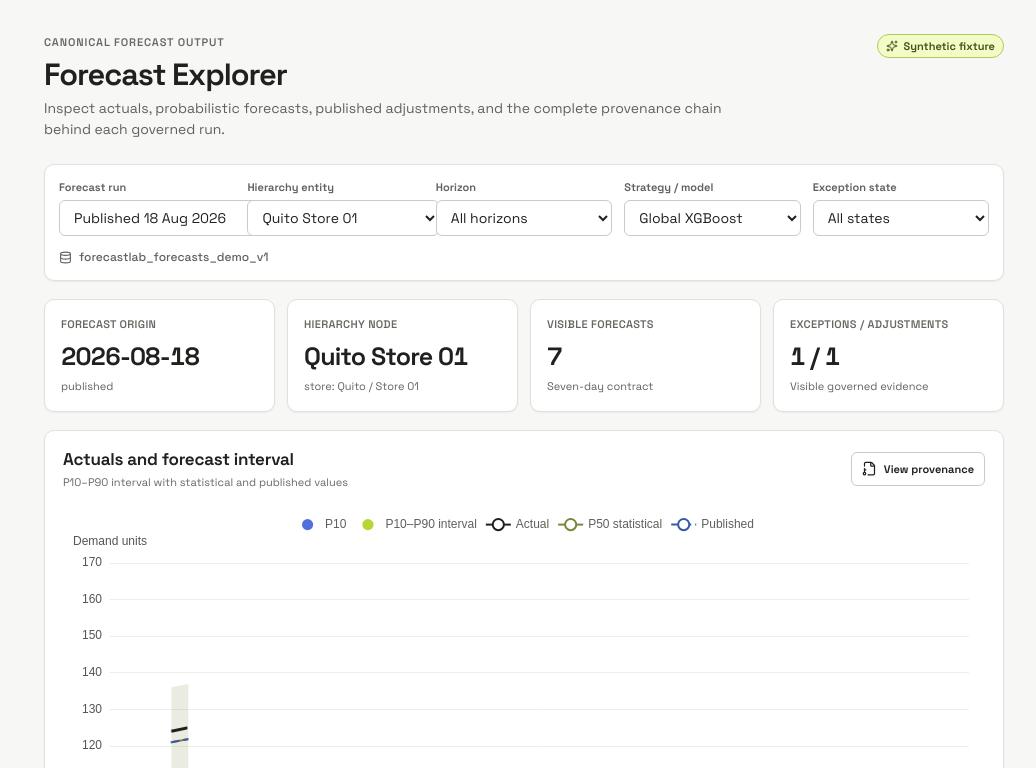
ForecastExplorerPage › persists horizon and exception filters in the URL
Expected: the heading "Forecast Explorer" is shown, [44, 54, 287, 94]
Select "Day 3" in the dropdown labelled "Horizon" at (524, 218), box [436, 200, 612, 236]
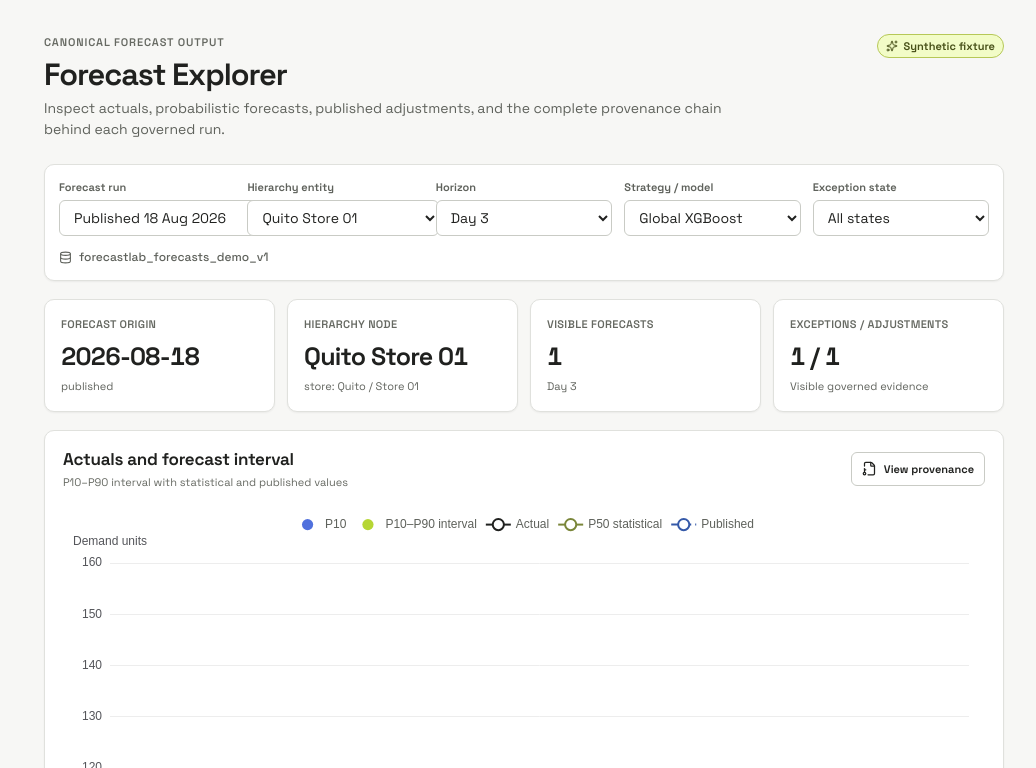
Select "watch" in the dropdown labelled "Exception state" at (901, 218), box [813, 200, 989, 236]
(page scrolled)
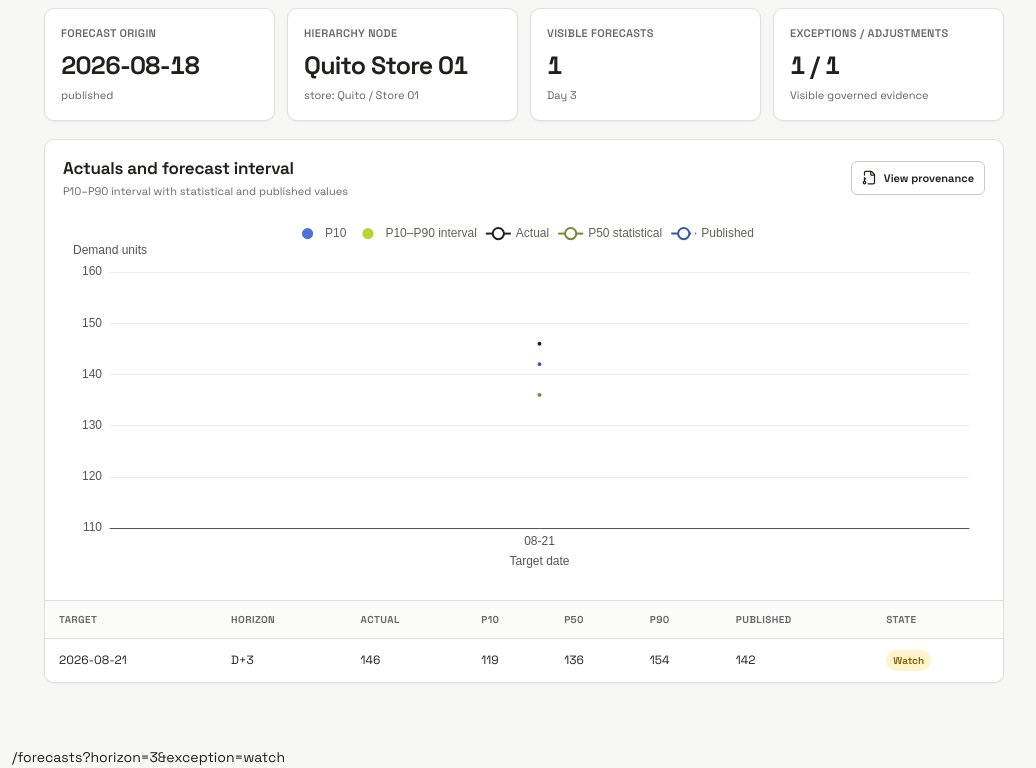
Expected: the text "2026-08-21" is shown, [45, 638, 217, 682]
Result: the text with test id "location" shows "horizon=3" at [12, 748, 285, 766]
Result: the text with test id "location" shows "exception=watch" at [12, 748, 285, 766]
